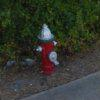Hydrant: (31, 18, 73, 78)
